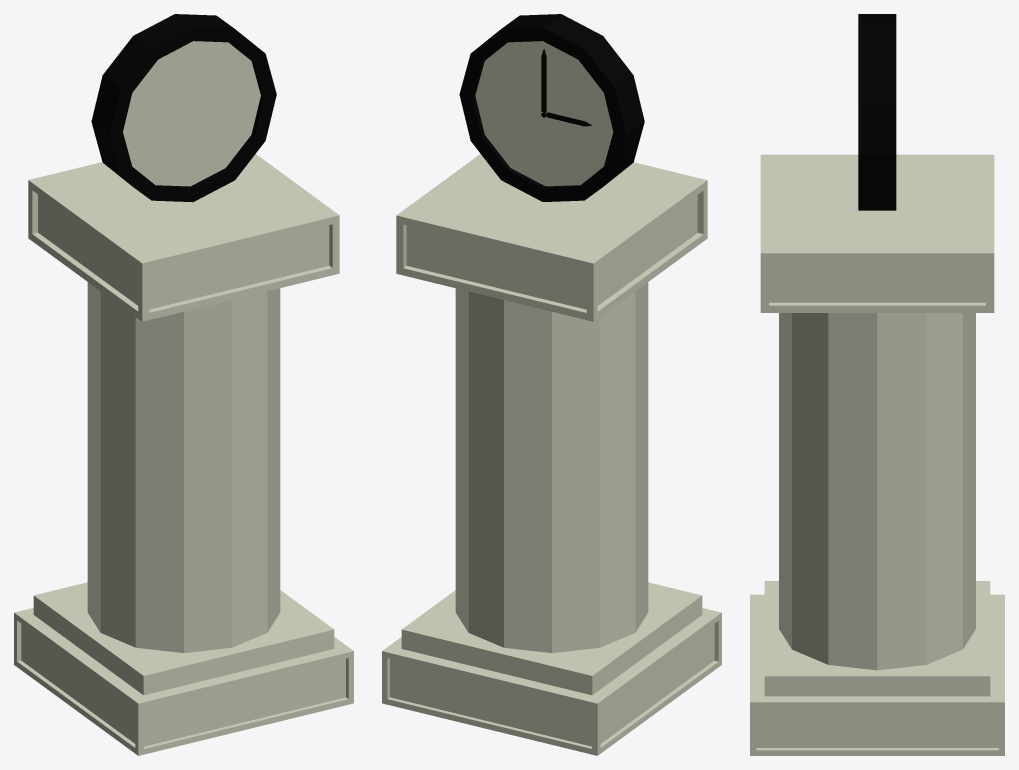
File: Clock Pillar.fbx
The picture shows the model from 3 angles, left to right: view 1: azimuth 30°, elevation 25°; view 2: azimuth 150°, elevation 25°; view 3: azimuth 270°, elevation 25°; orthographic projection. The views are drawn at different scales.
Parts seen in each view (by area): view 1: Cube.003; view 2: Cube.003; view 3: Cube.003.
Part boxes in pixels (<box>): Cube.003: <box>14,14,353,755</box>; Cube.003: <box>382,14,721,755</box>; Cube.003: <box>750,14,1004,755</box>.
Bounding box in the file's own units: 258 × 760 × 258.
